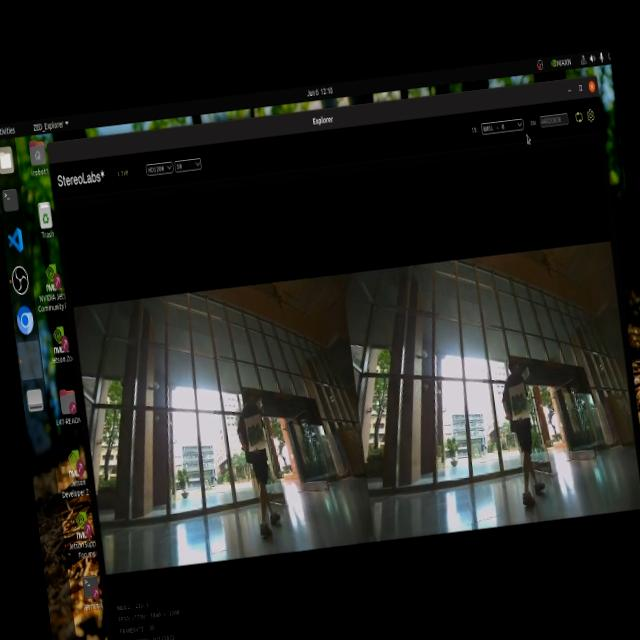green: (513, 388, 532, 426), (238, 424, 262, 454)
